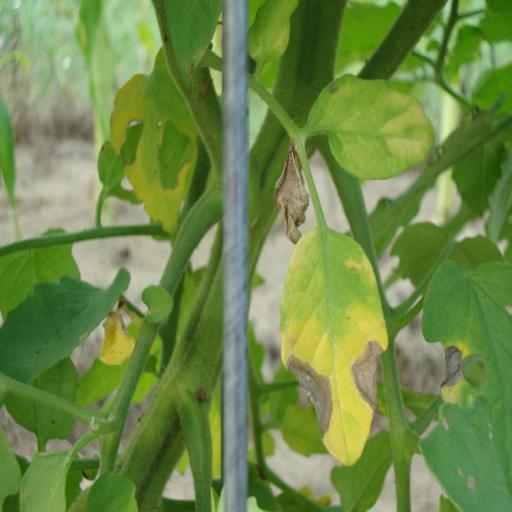disease_tomato: (277, 222, 383, 466)
